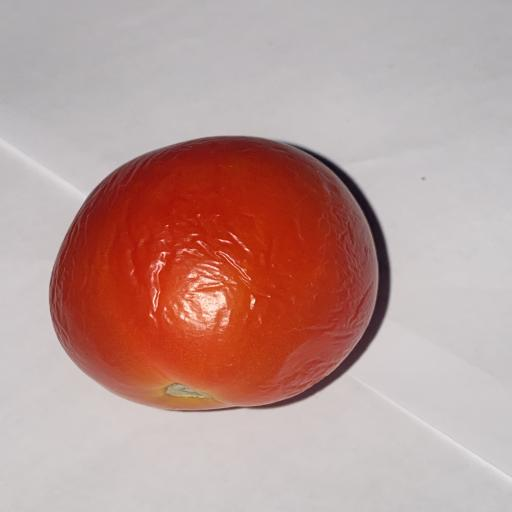spoiled: (50, 137, 378, 410)
